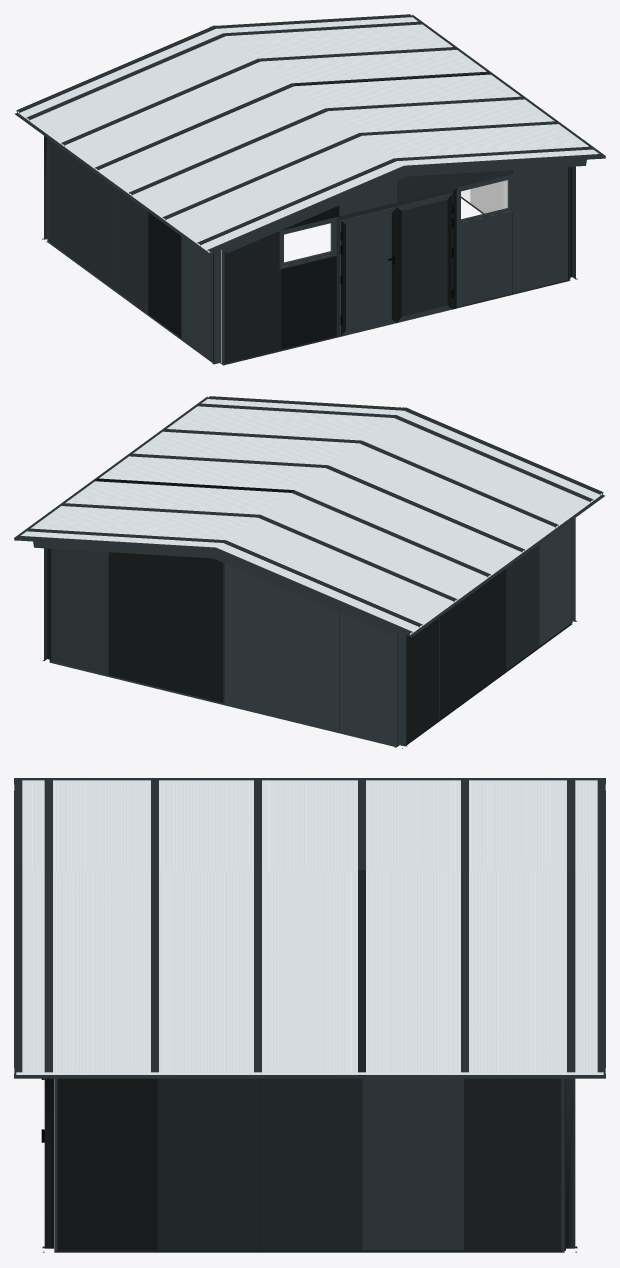
3 views of the same model, one above another, from view 1: azimuth 30°, elevation 25°; view 2: azimuth 150°, elevation 25°; view 3: azimuth 270°, elevation 25° (orthographic). The views are drawn at different scales.
Parts seen in each view (by area): view 1: priximbattable_net_abris_de_jardin_640007_abri_de_jardin_lav, folha, folha_2, porta_avec_hublot_1; view 2: priximbattable_net_abris_de_jardin_640007_abri_de_jardin_lav; view 3: priximbattable_net_abris_de_jardin_640007_abri_de_jardin_lav.
Boxes of the visible parts, x1=… form: priximbattable_net_abris_de_jardin_640007_abri_de_jardin_lav: x1=15, y1=14, x2=605, y2=366; folha: x1=396, y1=193, x2=453, y2=322; folha_2: x1=340, y1=207, x2=396, y2=336; porta_avec_hublot_1: x1=336, y1=188, x2=456, y2=337; priximbattable_net_abris_de_jardin_640007_abri_de_jardin_lav: x1=14, y1=396, x2=605, y2=748; priximbattable_net_abris_de_jardin_640007_abri_de_jardin_lav: x1=14, y1=778, x2=605, y2=1252.
Size of the model in its own units: 689 by 270 by 580.
1 material, 1 textured.
